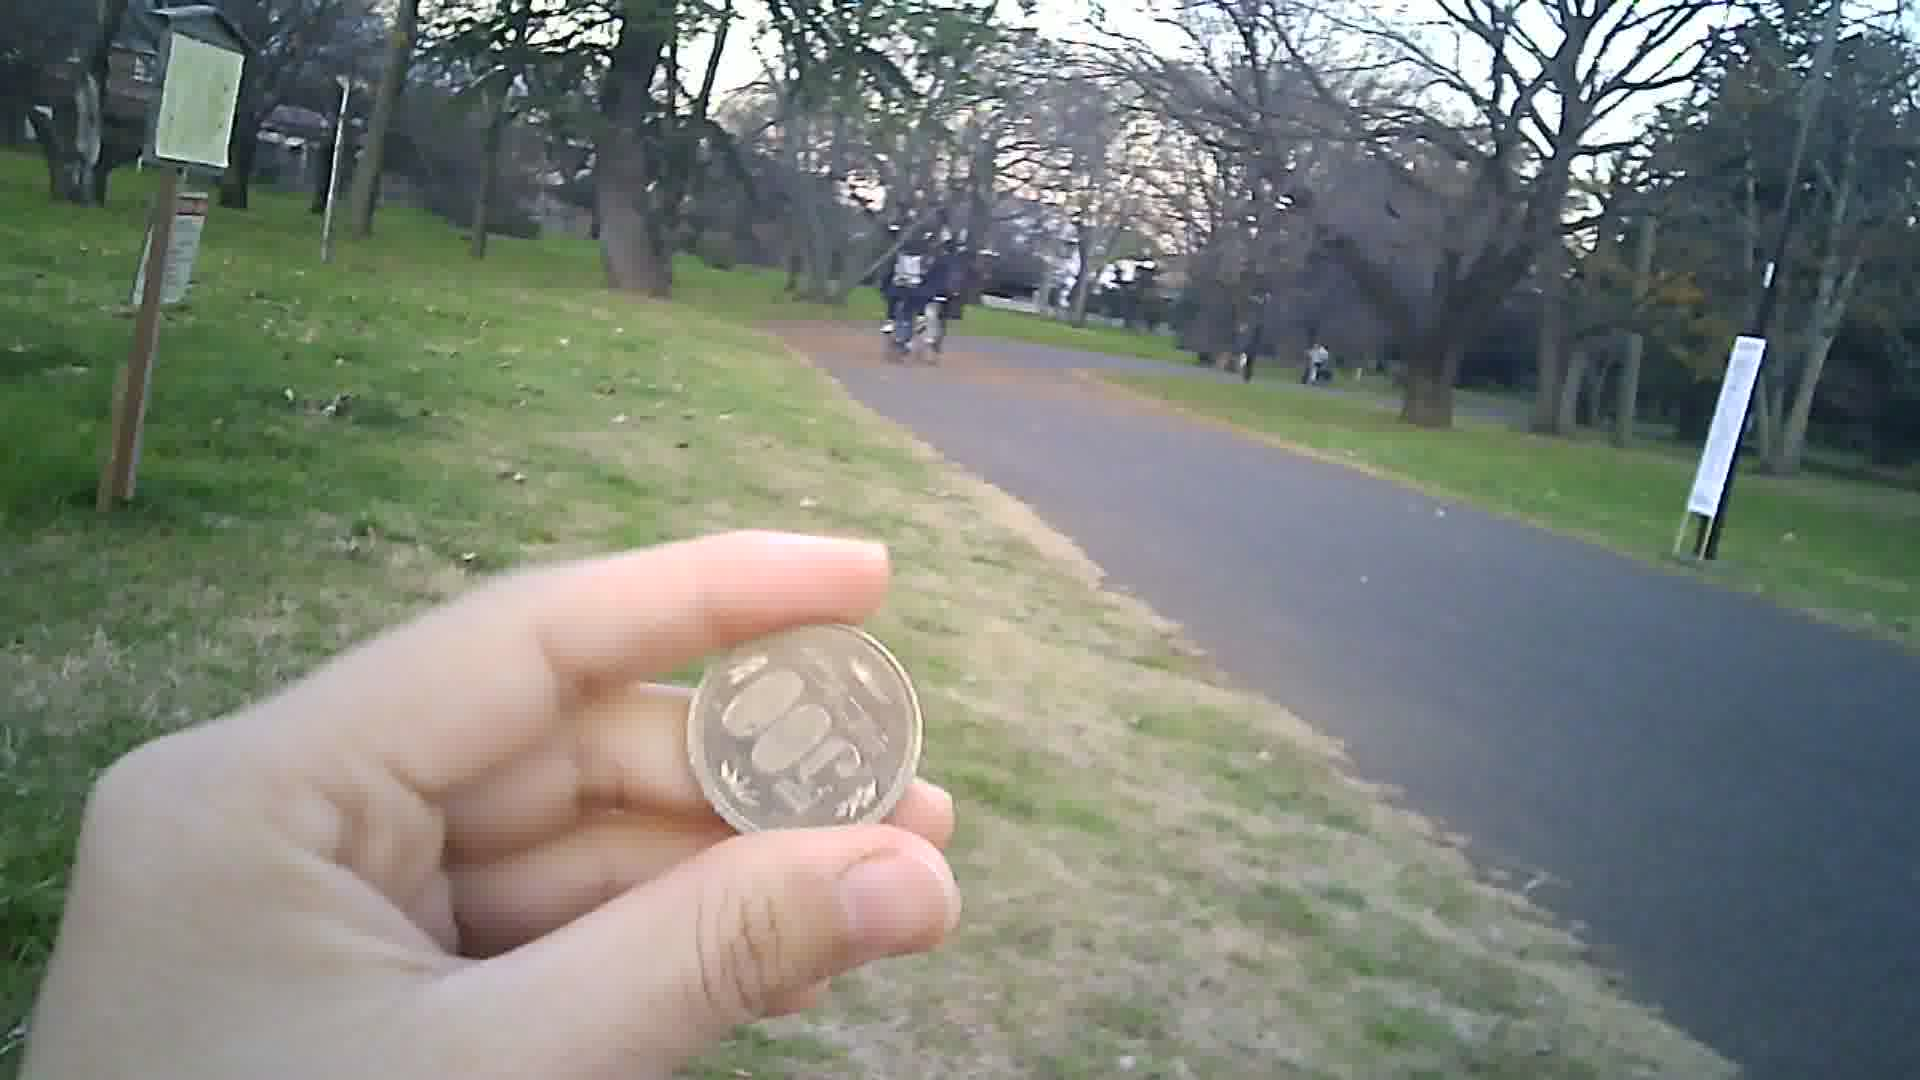500 Yen: (676, 609, 932, 861)
